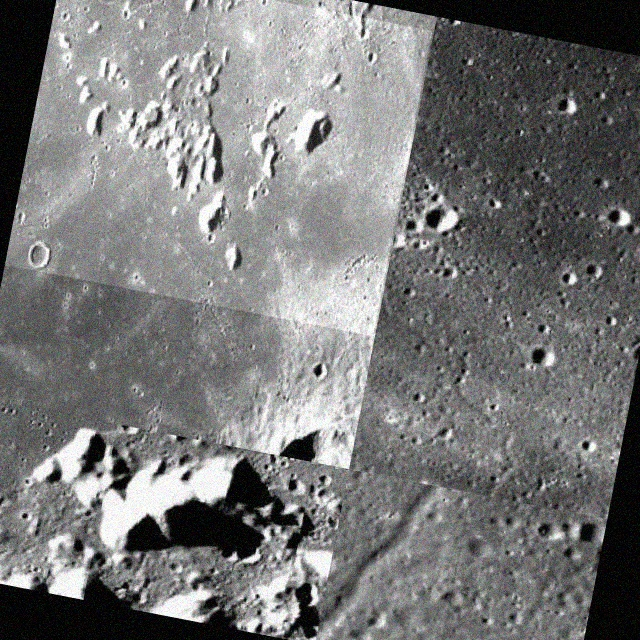crater: (5, 0, 432, 336), (350, 130, 584, 500), (0, 395, 347, 640), (315, 468, 470, 640)
